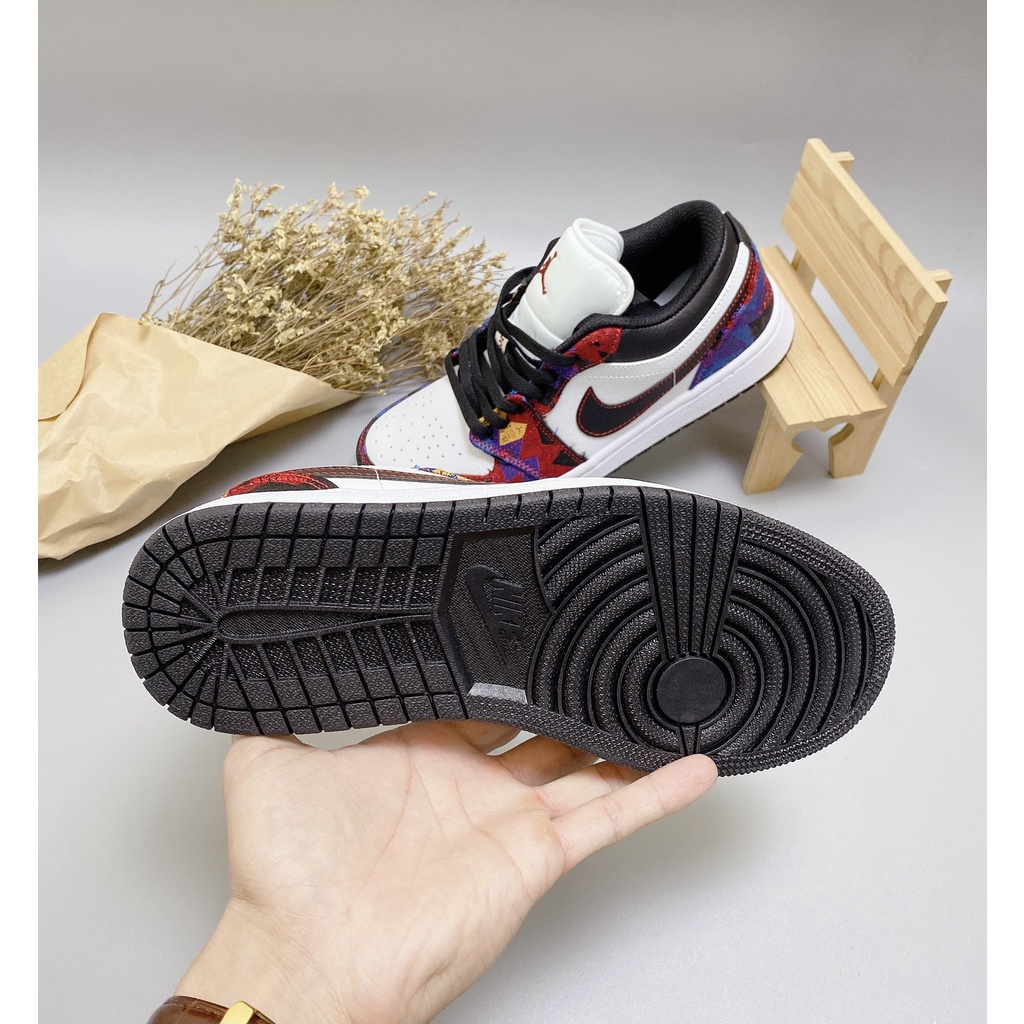sneakers: (118, 463, 894, 783), (353, 197, 796, 479)
